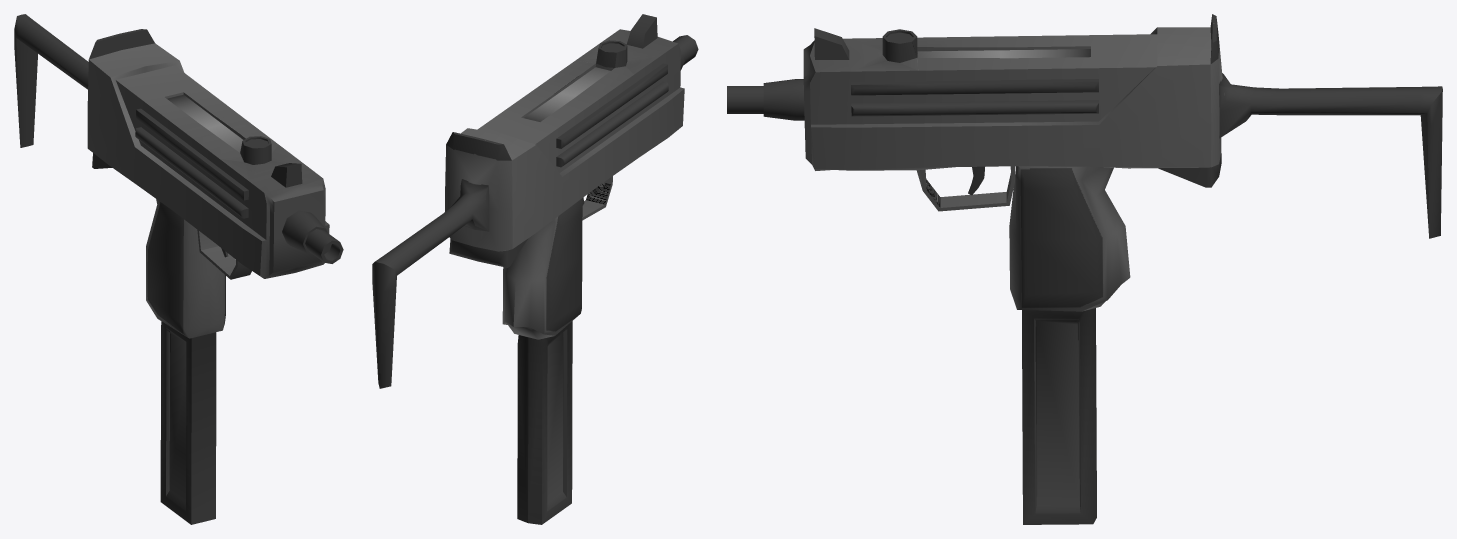
Rendered from uzi 2.fbx.
The picture shows the model from 3 angles, left to right: view 1: azimuth 30°, elevation 25°; view 2: azimuth 150°, elevation 25°; view 3: azimuth 270°, elevation 25°; orthographic projection. The views are drawn at different scales.
Visible parts, largest first — view 1: Uzi; view 2: Uzi; view 3: Uzi.
Boxes of the visible parts, left/top/right/bottom form: Uzi: left=14, top=14, right=343, bottom=524; Uzi: left=372, top=14, right=698, bottom=524; Uzi: left=727, top=14, right=1442, bottom=524.
Size of the model in its own units: 10.1 by 56.26 by 74.44.
